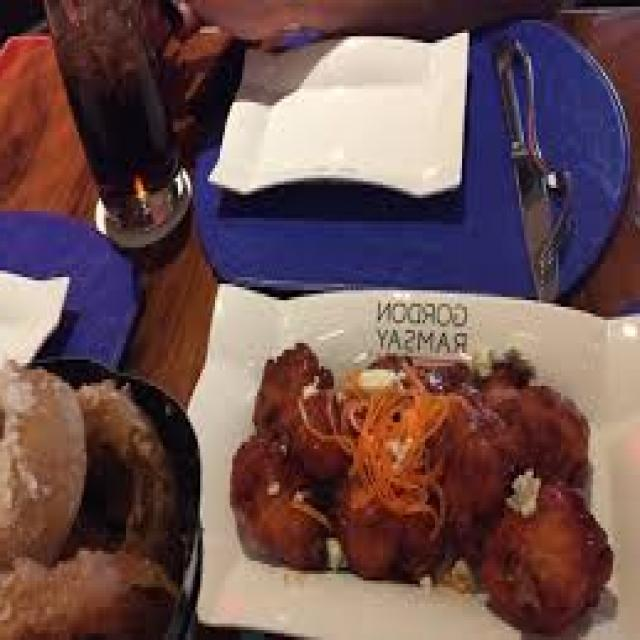Chicken Wings: (222, 343, 623, 620)
Onion Rings: (2, 343, 188, 637)
